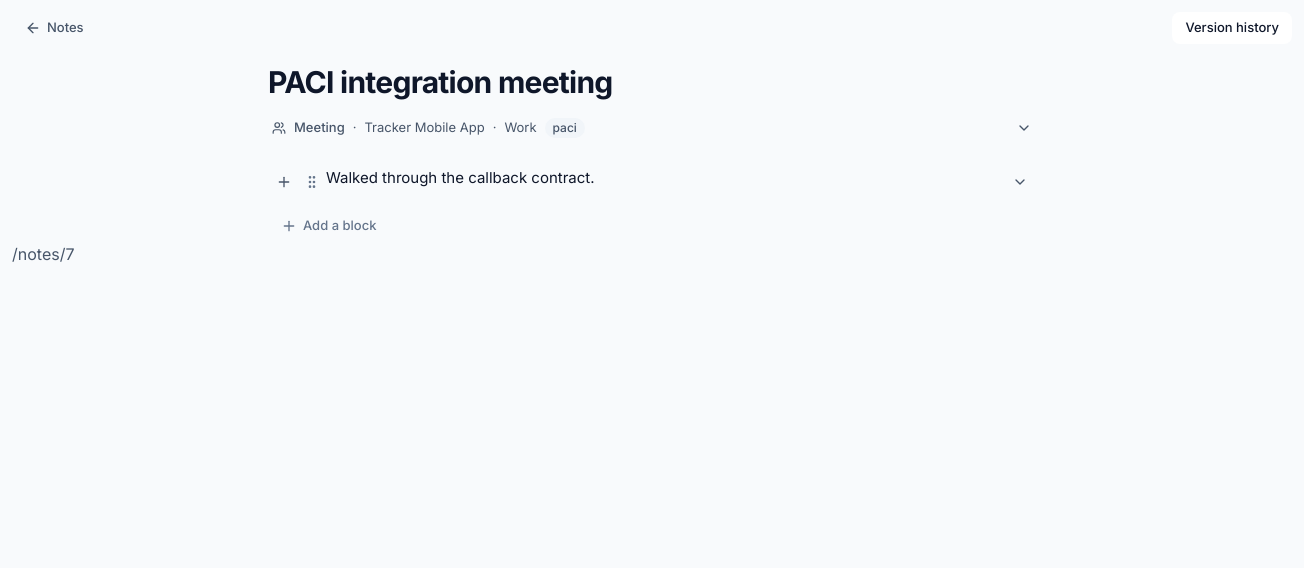
NotePage - block controls › turns a block into another type from the menu
Step 1. Click the button named "Block options for Text block 1" → (1020, 182), box [1004,166,1036,198]
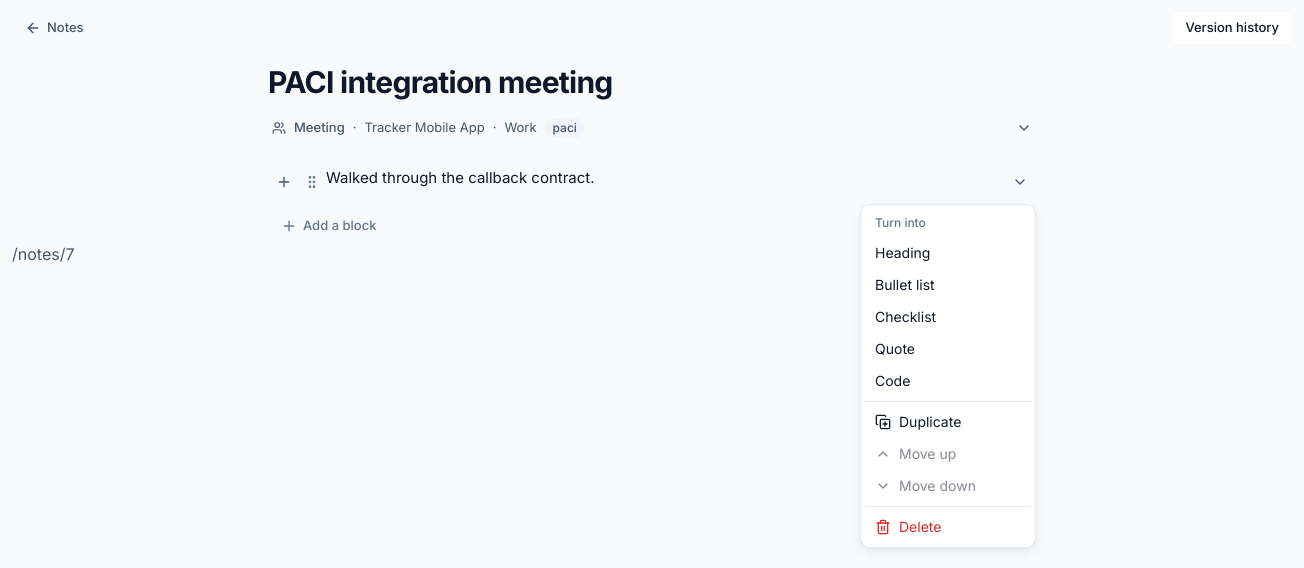
Step 2. Click the menu item "Checklist" → (906, 316), box [875,308,936,325]
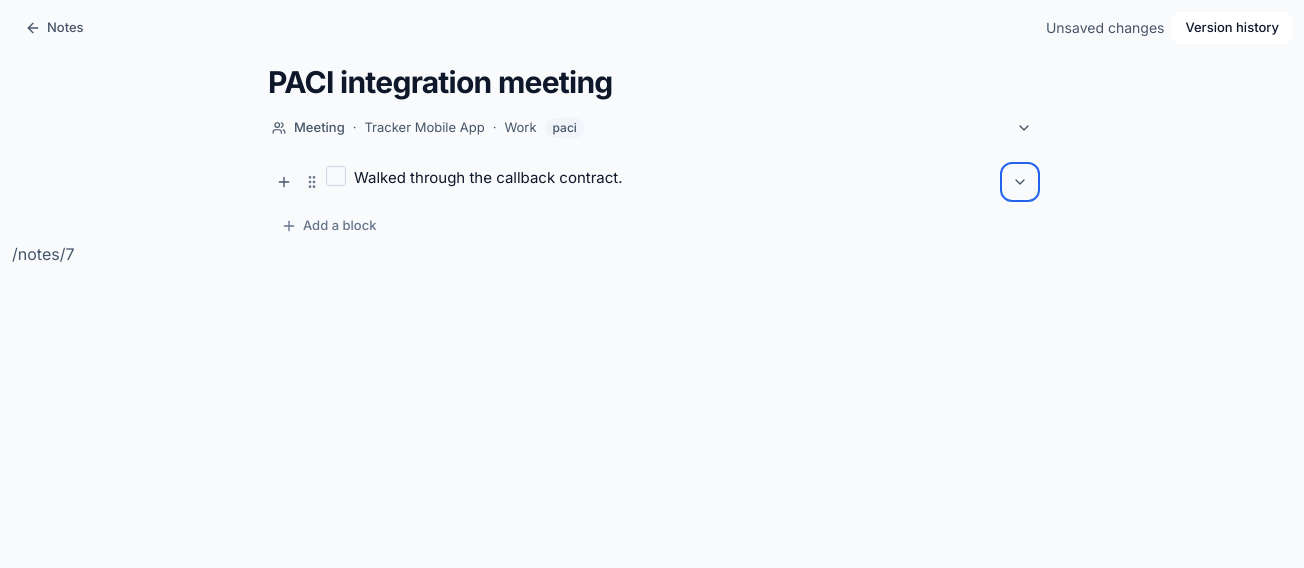
Check: the checkbox is shown, box [326,166,346,186]
